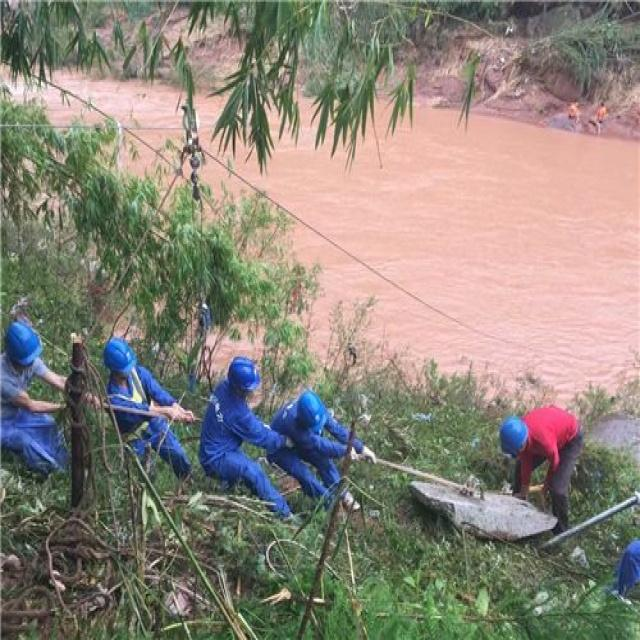helmet: (3, 429, 40, 495), (497, 553, 530, 615), (102, 448, 135, 509), (227, 473, 260, 531), (298, 516, 326, 577)
